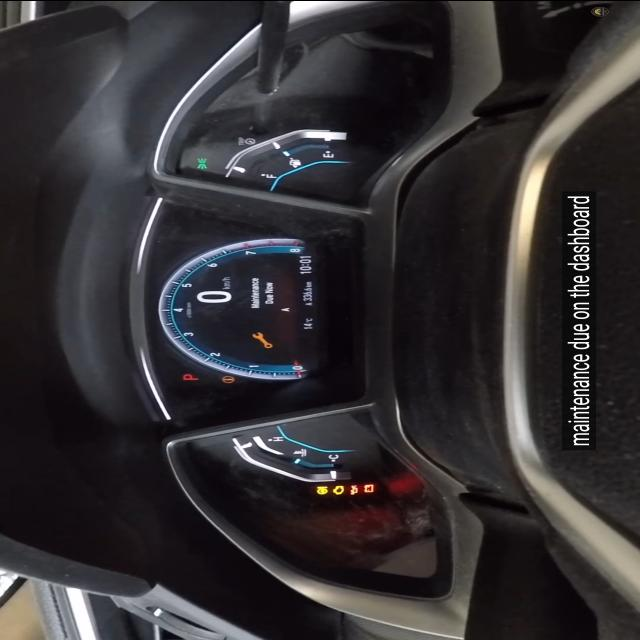Charging System Issue: (364, 484, 374, 492)
Check Engine: (332, 484, 344, 494)
Low Engine Oil Warning Light: (350, 484, 358, 494)
